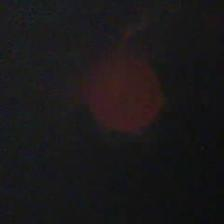fertile: (77, 48, 167, 137)
